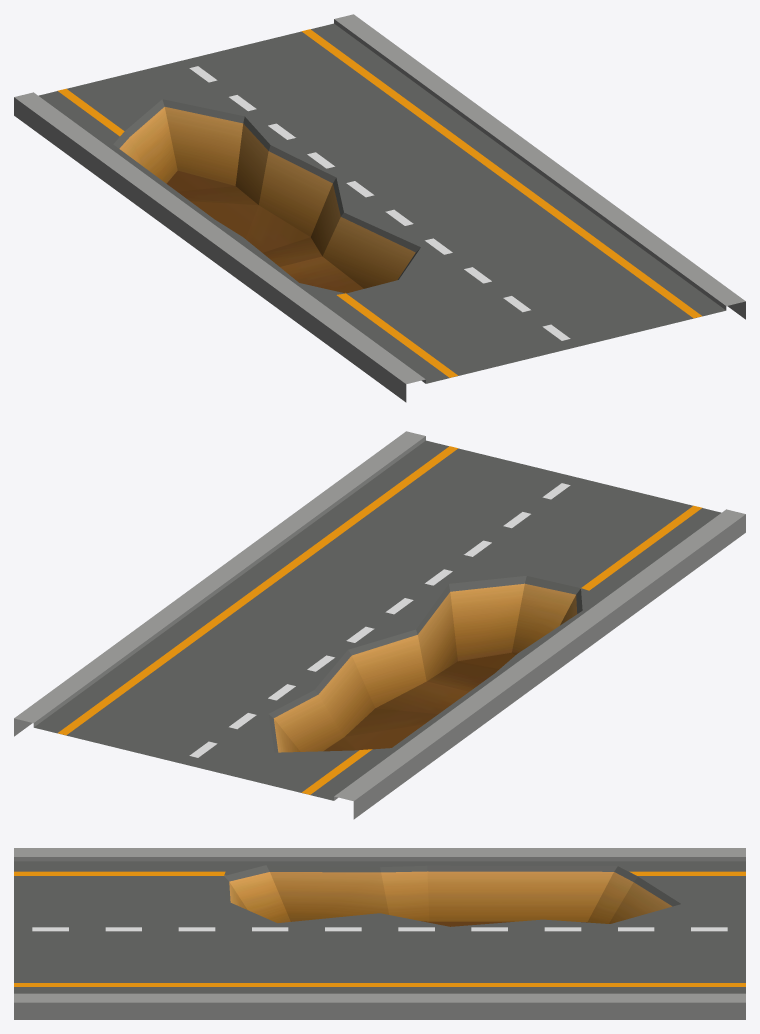
Rendered from Road_B_3.fbx.
3 renders of one model, top to bottom at view 1: azimuth 30°, elevation 25°; view 2: azimuth 150°, elevation 25°; view 3: azimuth 270°, elevation 25°, orthographic. The views are drawn at different scales.
Visible parts, largest first — view 1: Road_B_3; view 2: Road_B_3; view 3: Road_B_3.
Boxes of the visible parts, x1,y1,x2,y2 form: Road_B_3: [14, 14, 745, 402]; Road_B_3: [14, 431, 745, 819]; Road_B_3: [14, 848, 745, 1019].
Bounding box in the file's own units: 800 × 147 × 1600.
